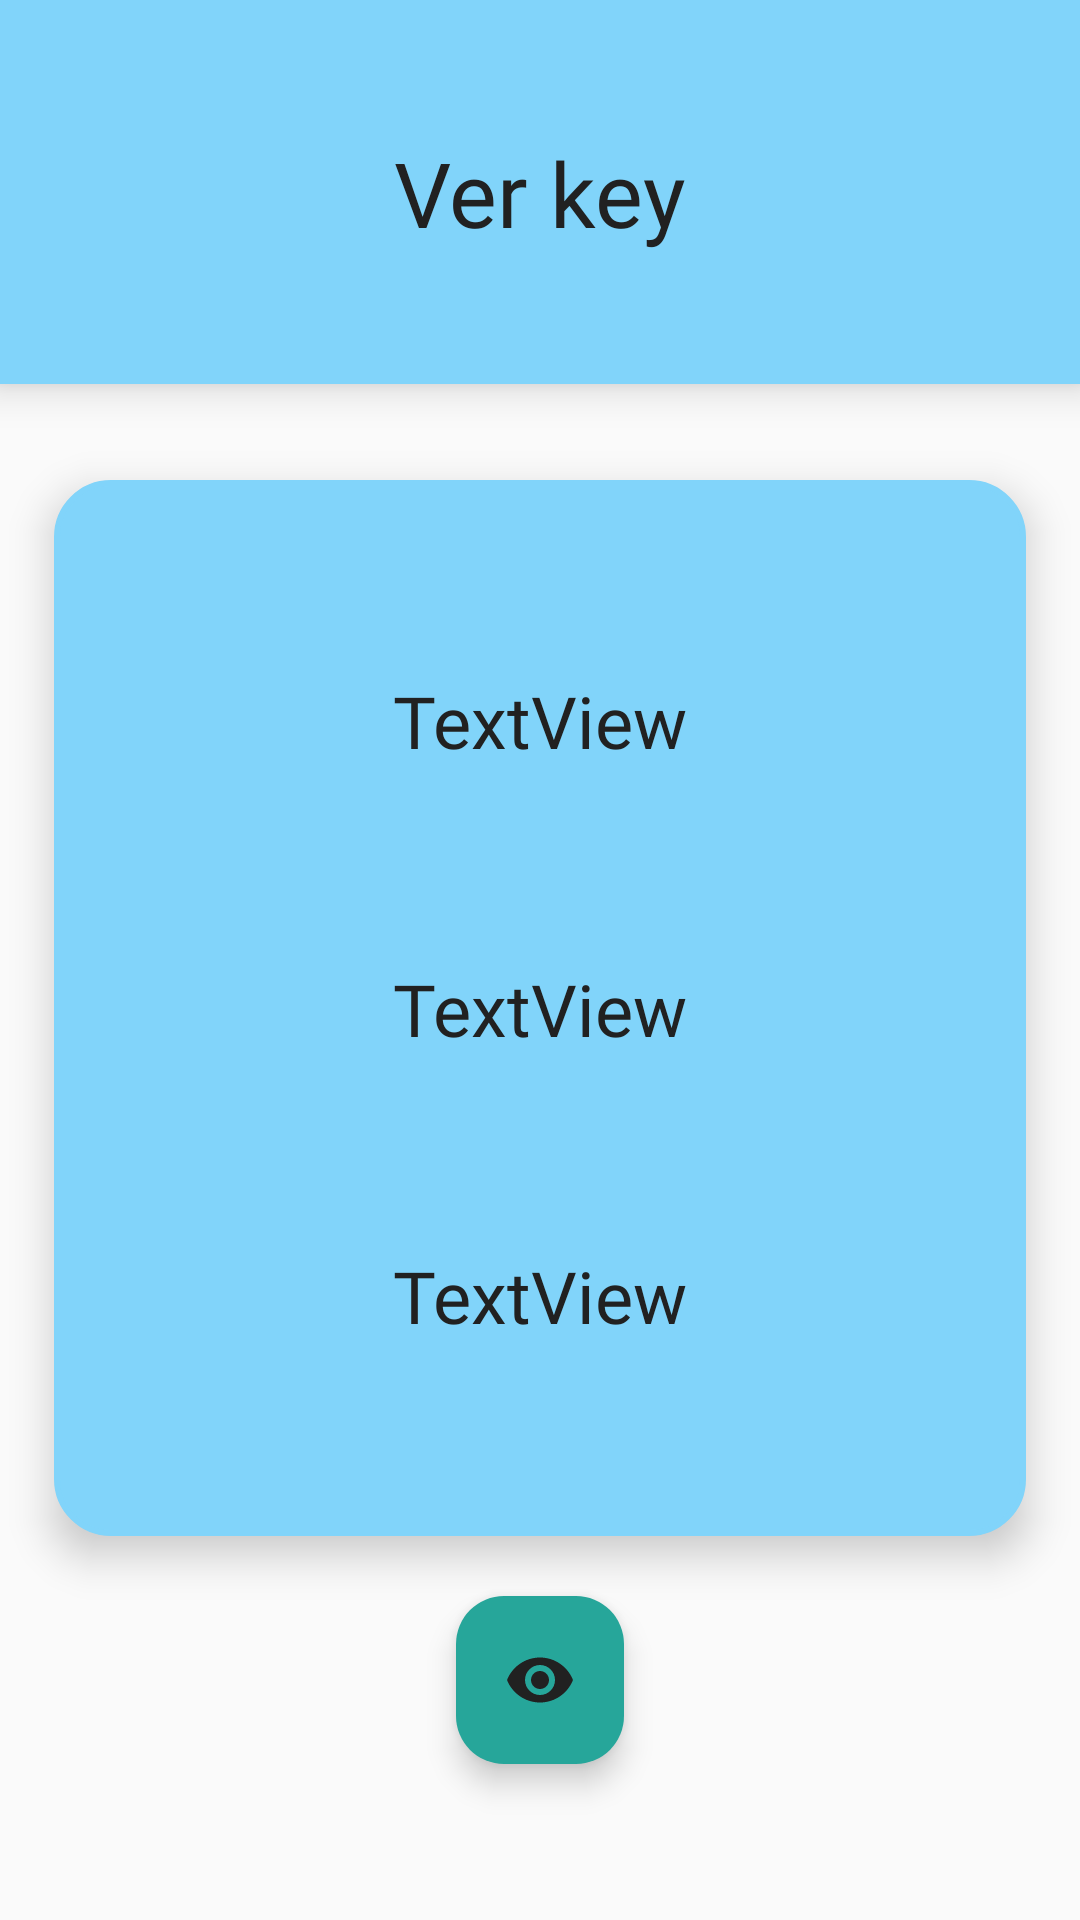

Where to tap for icons on this 1080w x 1920h app screen, as point (x, y):
visibility: point (540, 1680)
